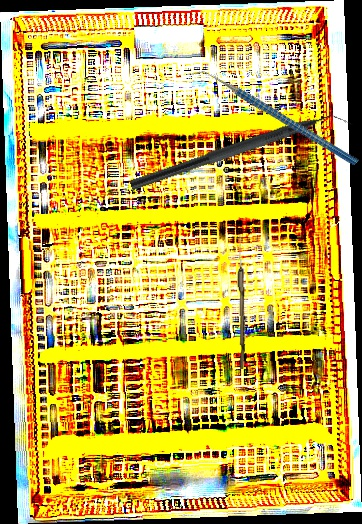Chopper: (188, 27, 360, 210), (129, 101, 354, 207)
Surgical Spoon: (235, 233, 248, 370)
